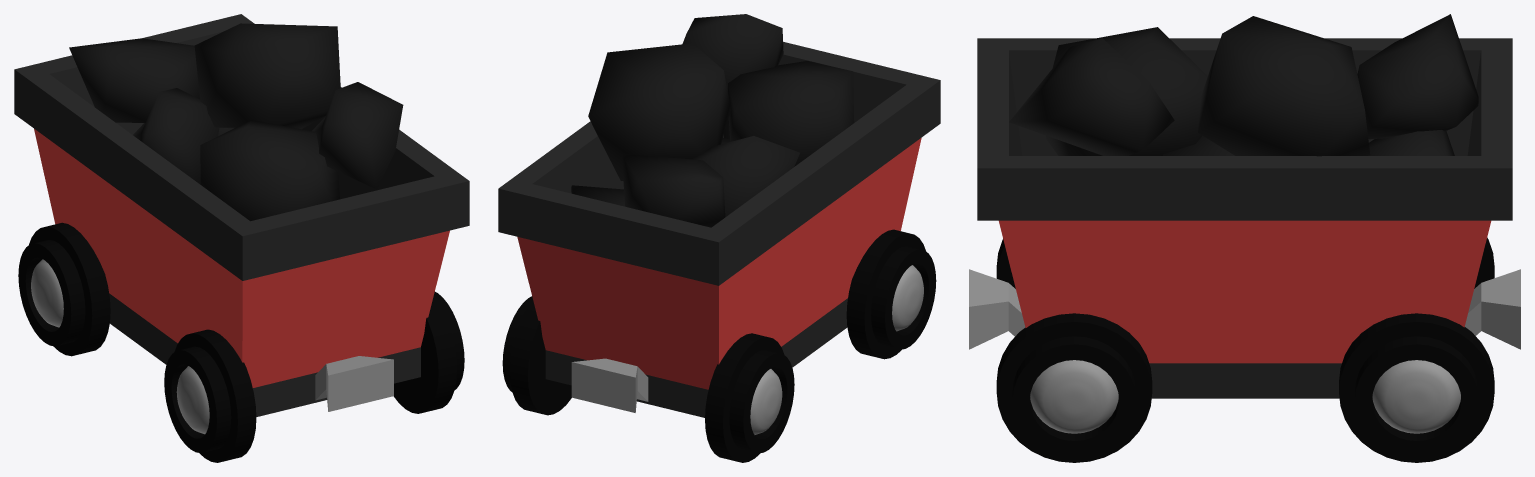
Rendered from CoalWagon.fbx.
3 views of the same model, side by side, from view 1: azimuth 30°, elevation 25°; view 2: azimuth 150°, elevation 25°; view 3: azimuth 270°, elevation 25° (orthographic). The views are drawn at different scales.
Visible parts, largest first — view 1: Cube.004, Icosphere.009, Icosphere.006, Cylinder.016, Cylinder.015, Icosphere.010, Icosphere.011, Cylinder.014, Icosphere.008; view 2: Cube.004, Icosphere.009, Icosphere.006, Cylinder.015, Cylinder.016, Icosphere.010, Icosphere.011, Cylinder.013, Icosphere.008, Icosphere.007; view 3: Cube.004, Icosphere.009, Cylinder.014, Cylinder.013, Icosphere.011, Icosphere.010, Icosphere.006, Icosphere.007, Icosphere.005.
Part boxes in pixels (x1,y1,x2,y2): Cube.004: (14, 14, 469, 416); Icosphere.009: (194, 23, 340, 129); Icosphere.006: (200, 120, 339, 221); Cylinder.016: (164, 329, 256, 462); Cylinder.015: (18, 222, 110, 356); Icosphere.010: (69, 38, 199, 122); Icosphere.011: (312, 82, 403, 189); Cylinder.014: (394, 291, 464, 413); Icosphere.008: (133, 88, 219, 184); Cube.004: (498, 41, 940, 417); Icosphere.009: (588, 43, 730, 180); Icosphere.006: (728, 61, 854, 166); Cylinder.015: (705, 333, 794, 462); Cylinder.016: (846, 229, 936, 359); Icosphere.010: (621, 153, 725, 227); Icosphere.011: (682, 14, 783, 91); Cylinder.013: (502, 296, 571, 415); Icosphere.008: (693, 136, 799, 216); Icosphere.007: (571, 185, 625, 206); Cube.004: (969, 38, 1520, 398); Icosphere.009: (1198, 16, 1370, 156); Cylinder.014: (996, 313, 1152, 462); Cylinder.013: (1339, 313, 1494, 462); Icosphere.011: (1009, 38, 1174, 155); Icosphere.010: (1357, 14, 1478, 139); Icosphere.006: (1045, 27, 1207, 155); Icosphere.007: (1368, 130, 1454, 155); Icosphere.005: (1163, 135, 1234, 155).
Bounding box in the file's own units: 179 × 221 × 285.
